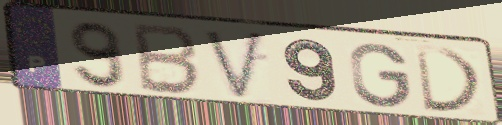9: (66, 19, 127, 92), (279, 36, 342, 105)
B: (132, 21, 204, 99)
D: (411, 43, 488, 115)
G: (347, 41, 414, 110)
V: (200, 27, 268, 104)
